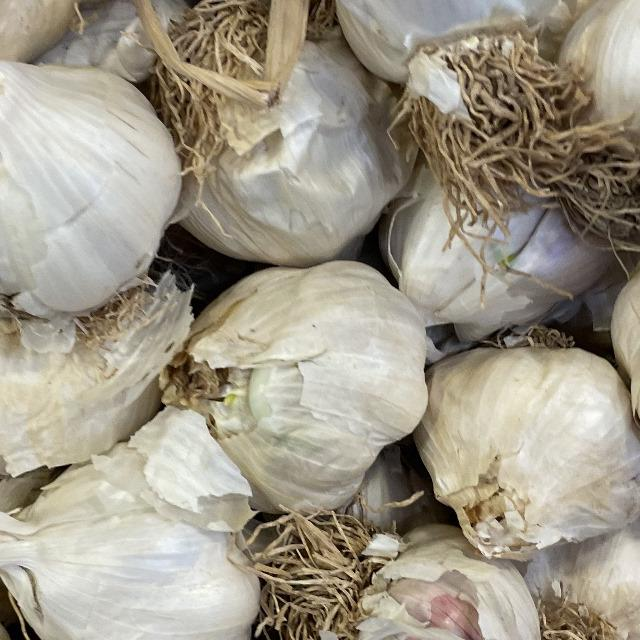garlic: (0, 17, 205, 332), (297, 0, 627, 195)
